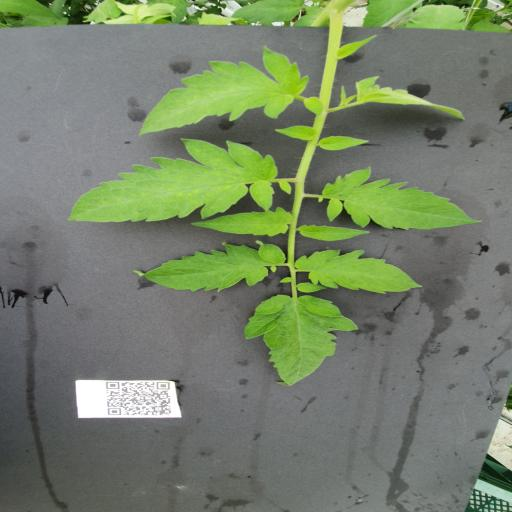Healthy: (69, 138, 278, 223), (138, 45, 309, 135), (319, 166, 482, 231), (244, 295, 359, 386), (133, 240, 286, 293), (294, 249, 422, 294), (354, 74, 467, 121), (190, 206, 292, 236), (231, 0, 303, 23), (298, 224, 370, 242), (318, 136, 369, 151), (274, 125, 317, 141), (304, 96, 324, 117)
